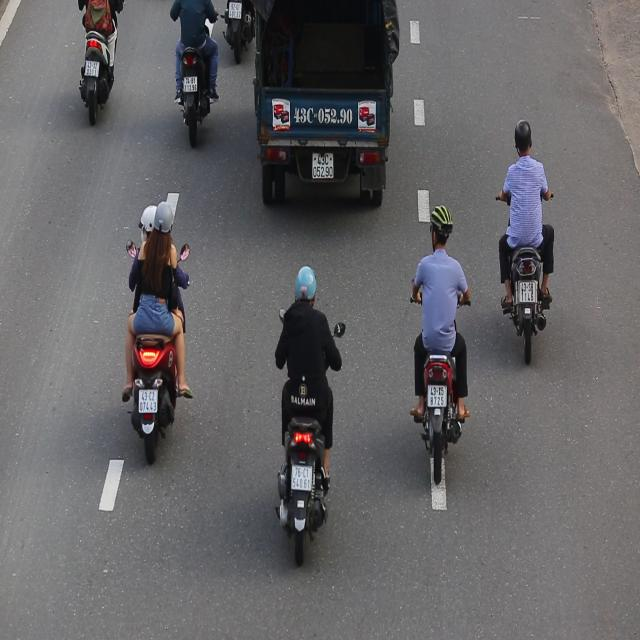motorbike: (123, 185, 196, 469), (275, 264, 342, 562), (409, 204, 475, 489), (492, 118, 560, 375)
